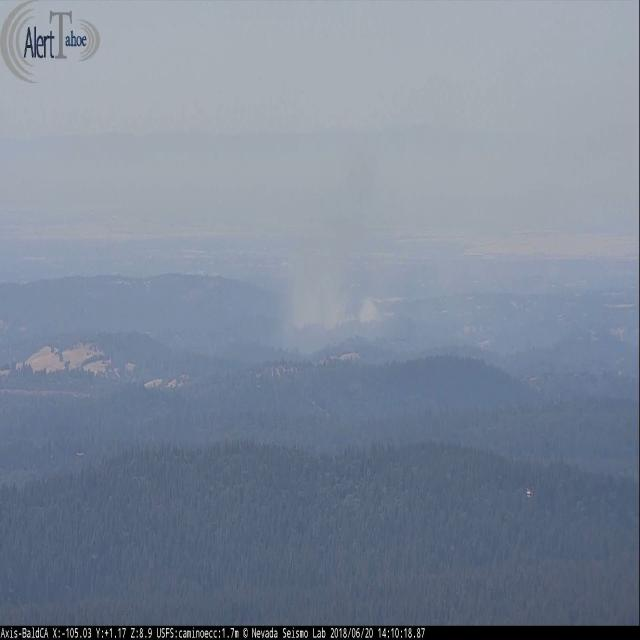smoke: (292, 263, 379, 331)
